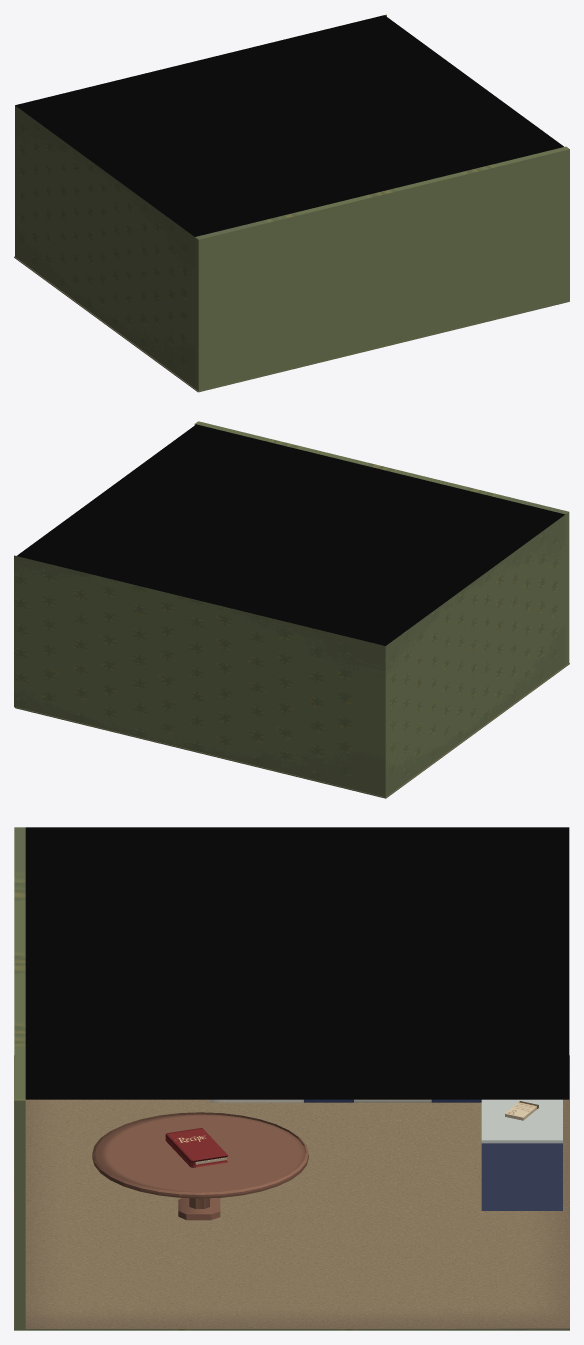
The model's file is sinkfulllkitchenfinal.glb.
The picture shows the model from 3 angles, top to bottom: view 1: azimuth 30°, elevation 25°; view 2: azimuth 150°, elevation 25°; view 3: azimuth 270°, elevation 25°; orthographic projection. The views are drawn at different scales.
Parts seen in each view (by area): view 1: room; view 2: room; view 3: room, table, shelf, book.
Part boxes in pixels (<box>): room: <box>14,14,569,392</box>; room: <box>14,421,569,798</box>; room: <box>14,827,569,1330</box>; table: <box>92,1112,308,1220</box>; shelf: <box>210,1099,562,1210</box>; book: <box>165,1128,228,1167</box>.
Size of the model in its own units: 45.67 by 17.85 by 39.09.
Materials: 15 (11 with a texture image).
